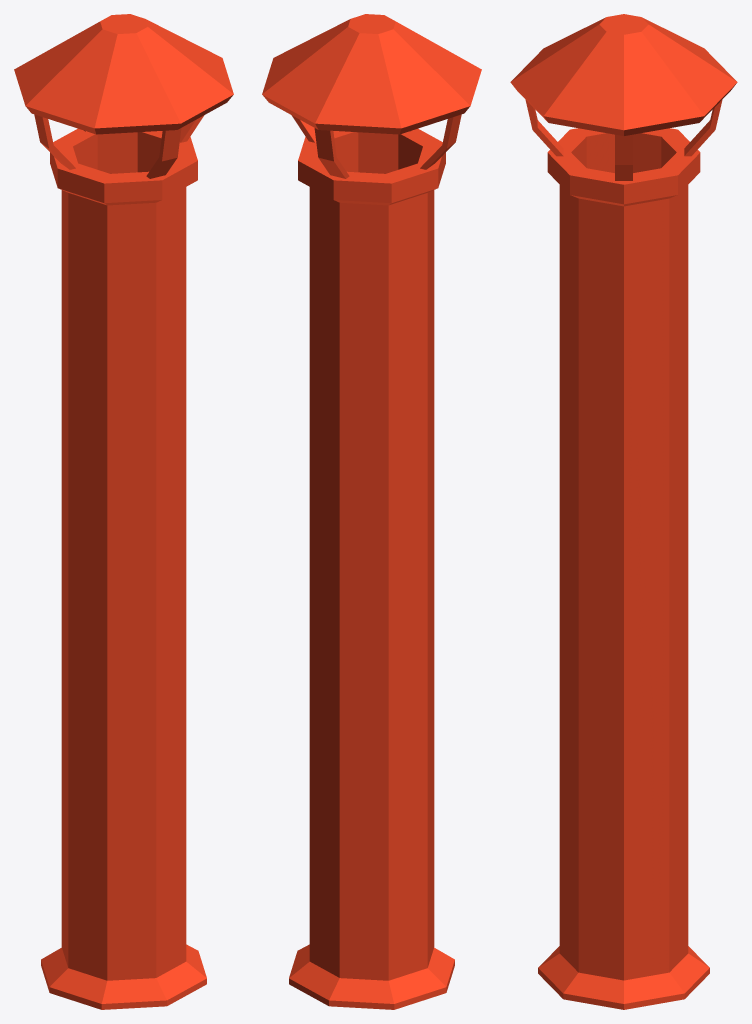
File: SM_Chimney_Tall_A_City.fbx
3 renders of one model, left to right at view 1: azimuth 30°, elevation 25°; view 2: azimuth 150°, elevation 25°; view 3: azimuth 270°, elevation 25°, orthographic.
Parts seen in each view (by area): view 1: SM_Chimney_Tall_A_City; view 2: SM_Chimney_Tall_A_City; view 3: SM_Chimney_Tall_A_City.
Boxes of the visible parts, left/top/right/bottom form: SM_Chimney_Tall_A_City: left=14, top=14, right=233, bottom=1009; SM_Chimney_Tall_A_City: left=262, top=14, right=481, bottom=1009; SM_Chimney_Tall_A_City: left=510, top=14, right=737, bottom=1009.
Size of the model in its own units: 0.1925 by 0.887 by 0.1925.
